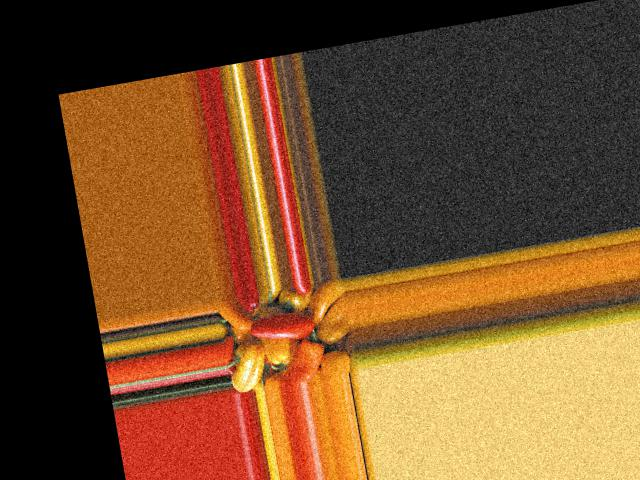bell_pepper: (225, 342, 272, 392)
